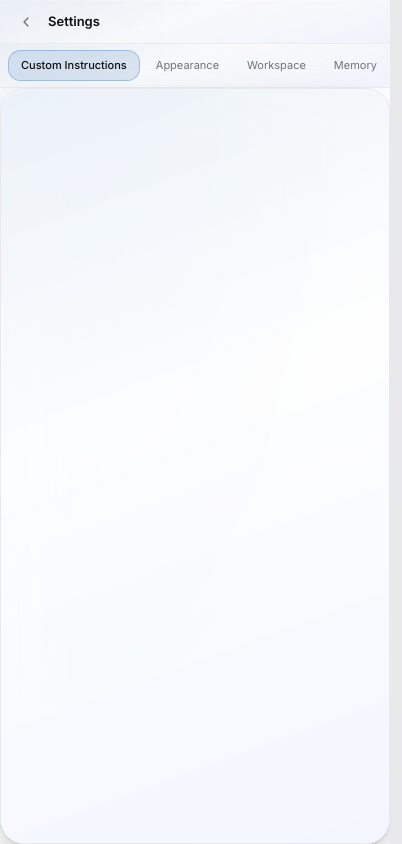
SettingsPage › navigates to the Appearance section on click
Click the button "Appearance". click: (187, 65)
box: x1=144 y1=50 x2=231 y2=80
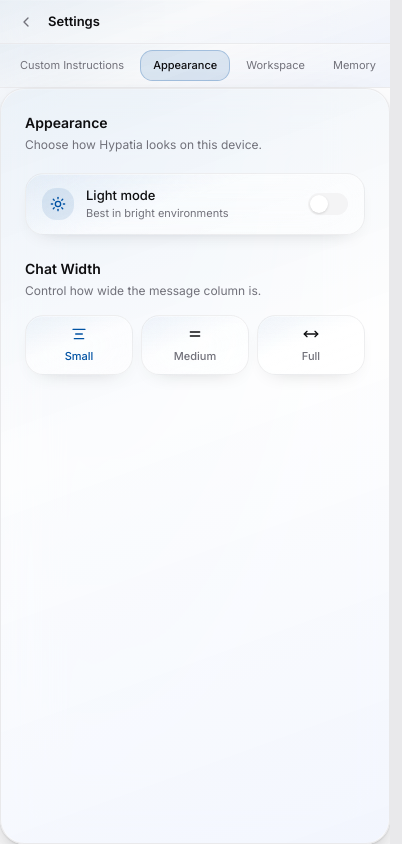
Check: the heading "Appearance" is shown, box x1=25 y1=114 x2=108 y2=130
